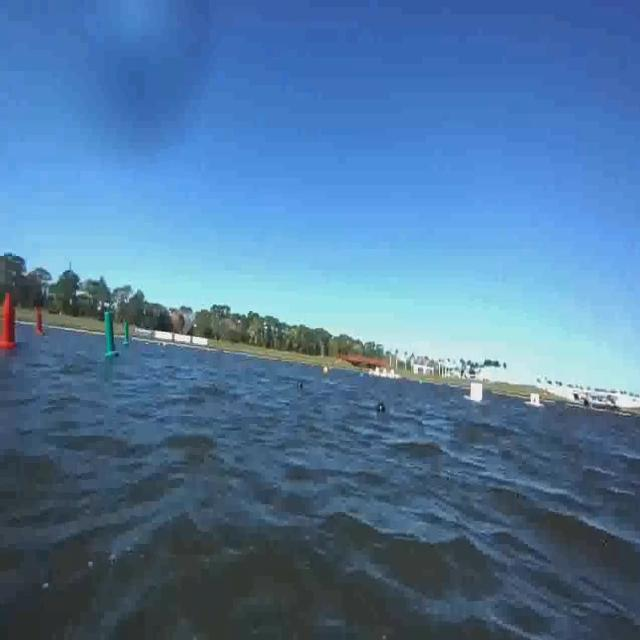black-buoy: (378, 400, 388, 416), (298, 381, 303, 387)
green-column-buoy: (102, 310, 119, 358), (122, 320, 130, 347)
red-column-buoy: (0, 292, 19, 350), (32, 303, 43, 335)
yellow-buoy: (325, 364, 332, 376)
